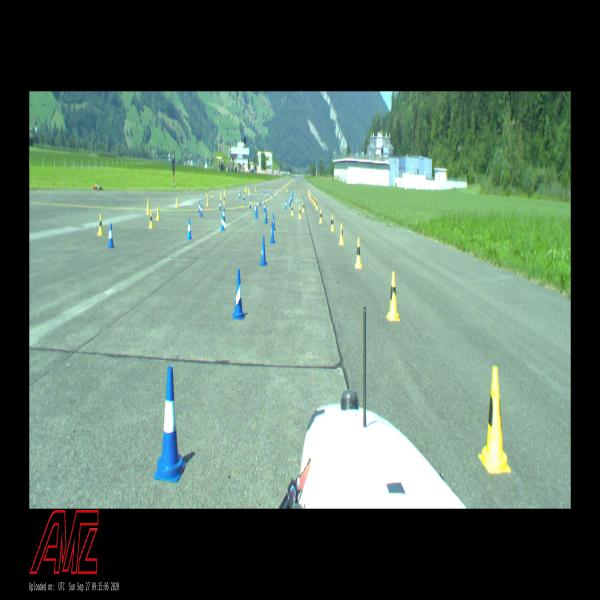blue_cone: (153, 366, 186, 484), (232, 269, 244, 320), (260, 236, 267, 266), (108, 224, 114, 249), (270, 221, 276, 245), (187, 219, 192, 240), (220, 212, 224, 231), (272, 213, 276, 231), (222, 206, 226, 224), (264, 208, 268, 224), (200, 203, 203, 218), (255, 205, 258, 220), (218, 200, 222, 211), (198, 200, 201, 213), (284, 199, 287, 210), (263, 202, 266, 212), (254, 202, 256, 215), (249, 199, 251, 210), (288, 197, 290, 207), (259, 196, 261, 206), (291, 192, 293, 201), (243, 193, 245, 201), (239, 191, 241, 199), (265, 187, 267, 194), (250, 192, 252, 198), (263, 187, 265, 193), (267, 192, 269, 198), (271, 189, 273, 195), (278, 187, 280, 193), (287, 188, 289, 194), (290, 196, 292, 202), (292, 188, 293, 197), (273, 190, 274, 198), (268, 187, 269, 193)
yellow_cone: (478, 365, 511, 474), (386, 271, 400, 322), (354, 237, 363, 270), (338, 222, 344, 246), (97, 213, 103, 236), (148, 210, 154, 230), (330, 213, 335, 232), (318, 208, 322, 224), (298, 205, 302, 220), (146, 201, 150, 216), (290, 203, 294, 216), (156, 205, 159, 220), (206, 196, 209, 207), (223, 195, 226, 204), (302, 201, 304, 213), (211, 190, 214, 198), (176, 197, 178, 208), (316, 200, 318, 210), (315, 198, 317, 208), (220, 192, 222, 201), (206, 188, 208, 196), (314, 197, 316, 205), (312, 195, 314, 203), (311, 193, 313, 201), (309, 192, 311, 200), (248, 188, 250, 195), (286, 186, 288, 193), (308, 190, 310, 196), (224, 189, 225, 196), (246, 186, 247, 193), (248, 187, 249, 194), (255, 185, 256, 191), (245, 186, 246, 192), (304, 187, 305, 193), (309, 191, 310, 197), (308, 189, 309, 195), (270, 186, 271, 191)
